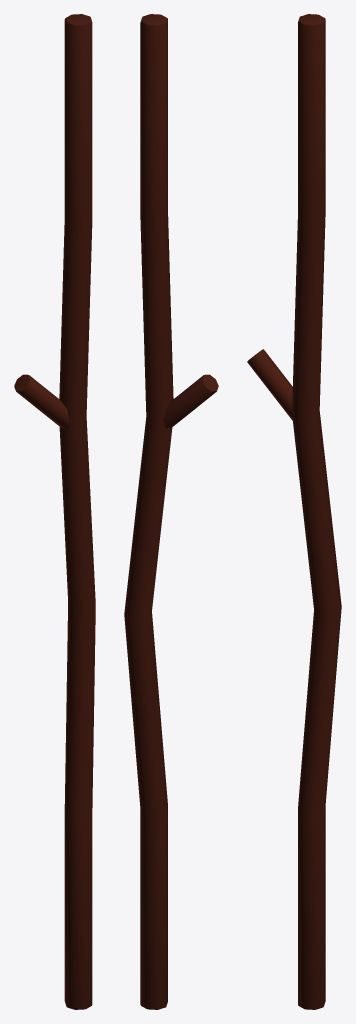
Rendered from wood.fbx.
3 views of the same model, side by side, from view 1: azimuth 30°, elevation 25°; view 2: azimuth 150°, elevation 25°; view 3: azimuth 330°, elevation 25° (orthographic).
Visible parts, largest first — view 1: wood; view 2: wood; view 3: wood.
Part boxes in pixels (x1=…): wood: x1=14, y1=14, x2=95, y2=1009; wood: x1=124, y1=14, x2=218, y2=1009; wood: x1=247, y1=14, x2=341, y2=1009.
Bounding box in the file's own units: 41.79 × 464 × 17.69.
